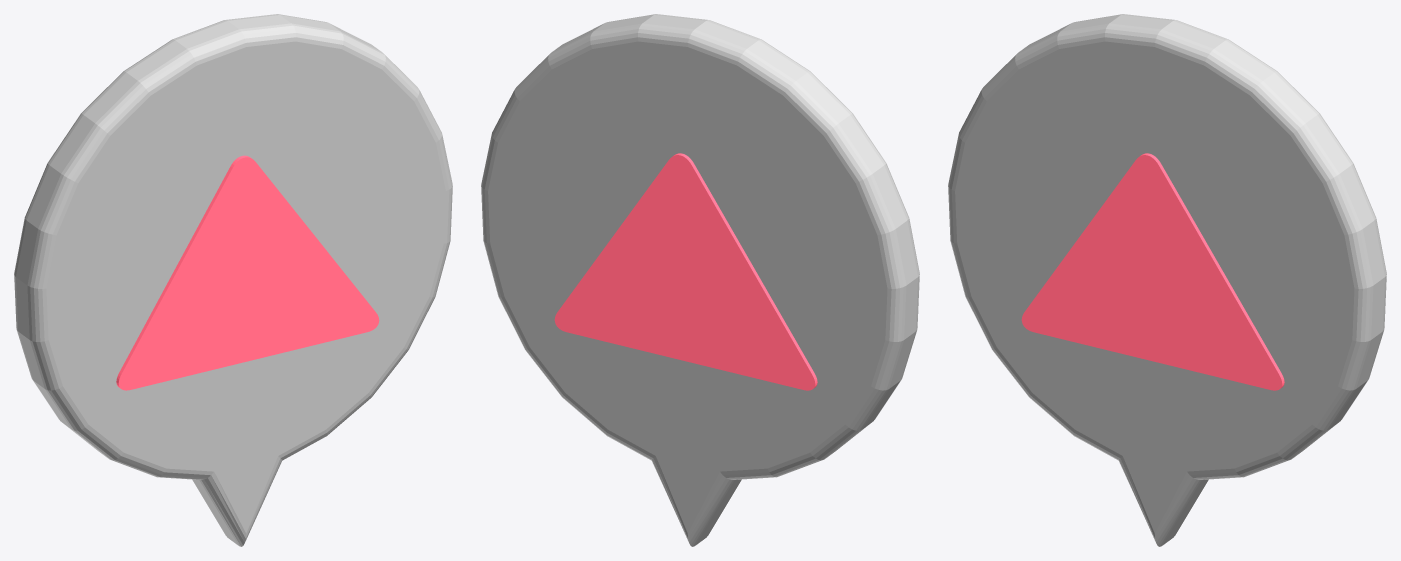
File: small_red_triangle.glb
3 renders of one model, left to right at view 1: azimuth 30°, elevation 25°; view 2: azimuth 150°, elevation 25°; view 3: azimuth 330°, elevation 25°, orthographic.
Visible parts, largest first — view 1: EmotionBubble; view 2: EmotionBubble; view 3: EmotionBubble.
Part boxes in pixels (<box>): EmotionBubble: <box>14,14,452,546</box>; EmotionBubble: <box>481,14,919,546</box>; EmotionBubble: <box>948,14,1386,546</box>.
Bounding box in the file's own units: 5.29 × 6.16 × 0.67.
